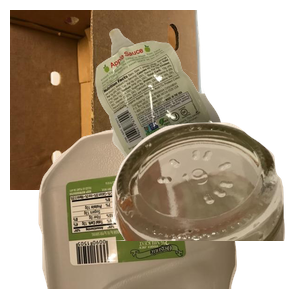cardboard: (10, 10, 211, 190)
glass: (89, 120, 300, 300)
plastic: (36, 120, 265, 300)
trash: (93, 26, 300, 200)
